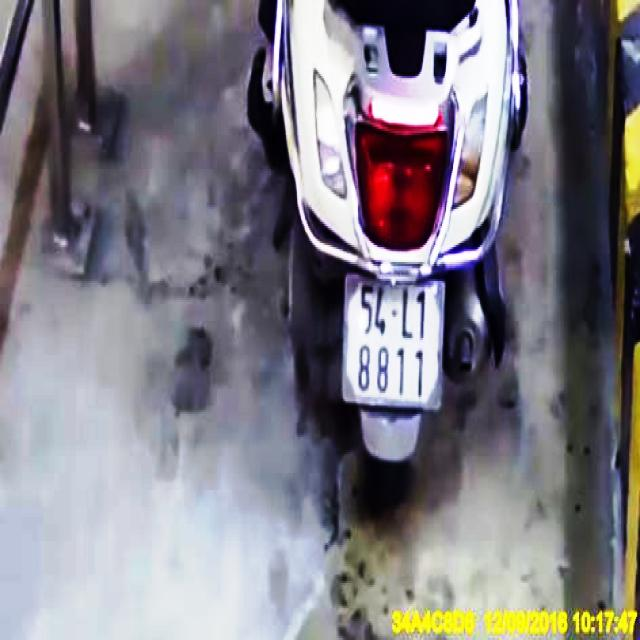license_plate: (341, 277, 445, 405)
